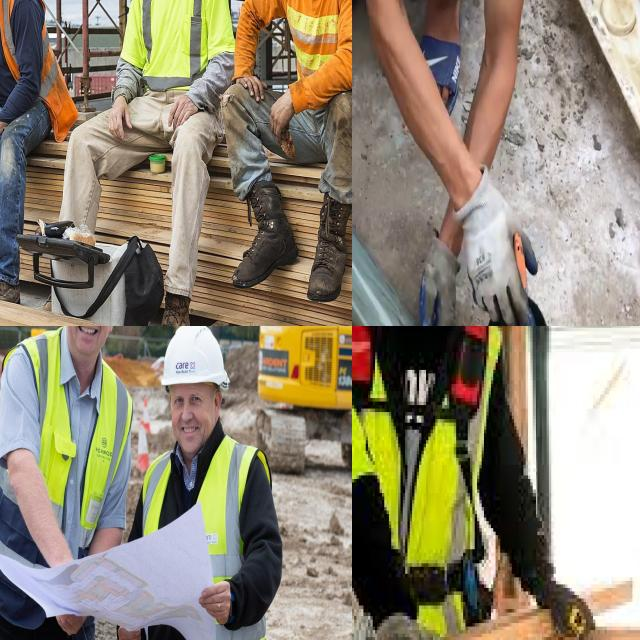face_nomask: (172, 387, 213, 455), (69, 326, 112, 355)
hand_glove: (458, 171, 538, 326), (416, 234, 456, 326), (551, 573, 595, 640), (374, 613, 433, 640)
hand_noglove: (198, 573, 234, 630), (268, 89, 298, 151), (235, 70, 266, 111), (168, 87, 199, 128), (107, 97, 135, 138)
head_helmet: (161, 326, 228, 391)
person: (359, 326, 585, 640), (141, 326, 277, 640), (75, 0, 220, 284), (0, 326, 126, 640), (248, 0, 352, 307), (352, 326, 414, 640), (0, 0, 58, 282)
shoes: (232, 190, 300, 289), (302, 186, 352, 312)
vest: (352, 326, 491, 640), (0, 328, 128, 593), (141, 434, 272, 640), (121, 0, 246, 94), (0, 0, 56, 110)
